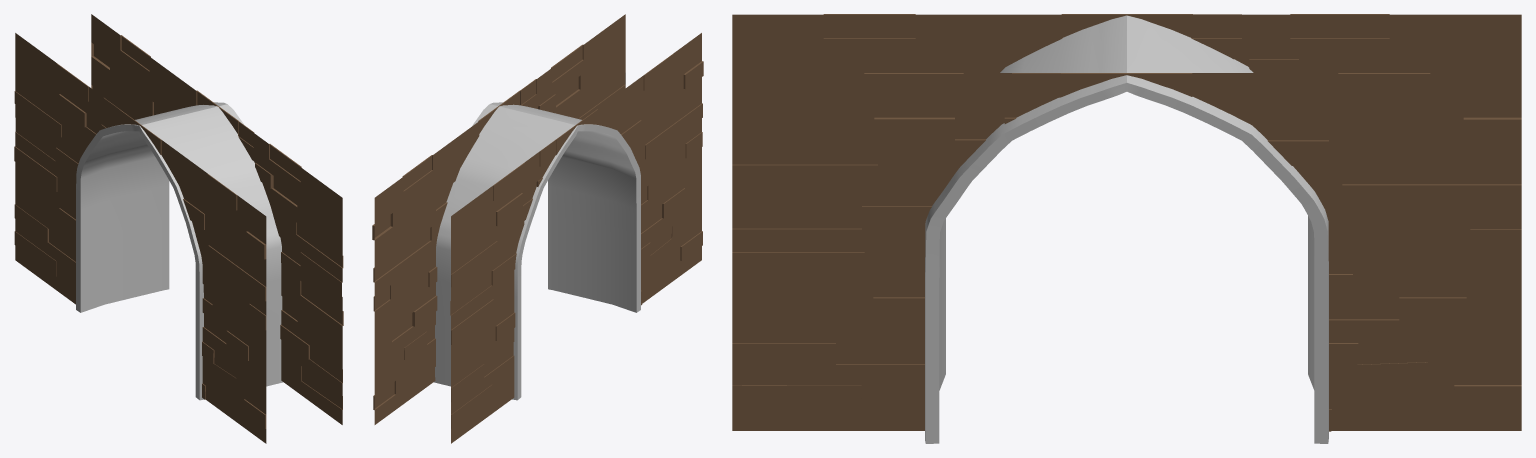
The model's file is Corridor_Wall_Transition.fbx.
The picture shows the model from 3 angles, left to right: view 1: azimuth 30°, elevation 25°; view 2: azimuth 150°, elevation 25°; view 3: azimuth 270°, elevation 25°; orthographic projection. The views are drawn at different scales.
Visible parts, largest first — view 1: Corridor_Wall_Transition; view 2: Corridor_Wall_Transition; view 3: Corridor_Wall_Transition.
Part boxes in pixels (x1=…): Corridor_Wall_Transition: x1=14, y1=14, x2=343, y2=443; Corridor_Wall_Transition: x1=372, y1=14, x2=703, y2=443; Corridor_Wall_Transition: x1=732, y1=14, x2=1521, y2=443.
Bounding box in the file's own units: 104 × 251 × 497.
